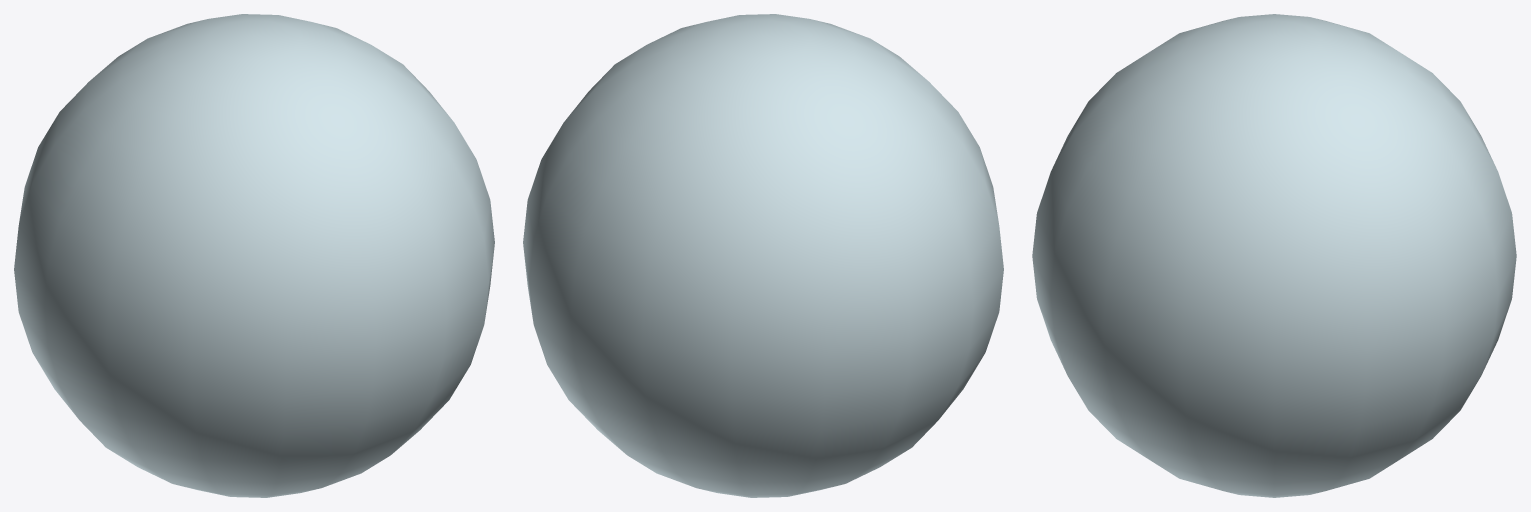
The model's file is egg.fbx.
The picture shows the model from 3 angles, left to right: view 1: azimuth 30°, elevation 25°; view 2: azimuth 150°, elevation 25°; view 3: azimuth 270°, elevation 25°; orthographic projection.
Parts seen in each view (by area): view 1: outside; view 2: outside; view 3: outside.
Part boxes in pixels (left/top/right/bottom): outside: left=14, top=14, right=494, bottom=497; outside: left=523, top=14, right=1003, bottom=497; outside: left=1032, top=14, right=1516, bottom=497.
Bounding box in the file's own units: 200 × 200 × 200.
